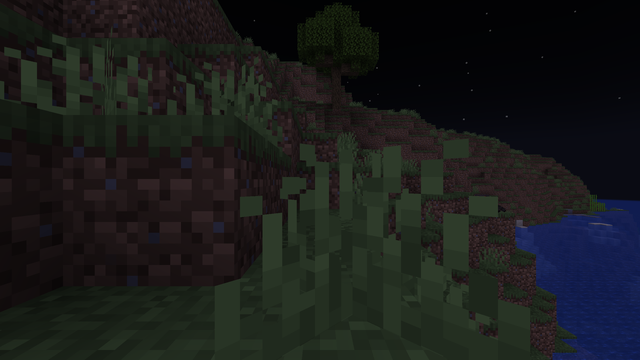araignees: (475, 193, 504, 212)
